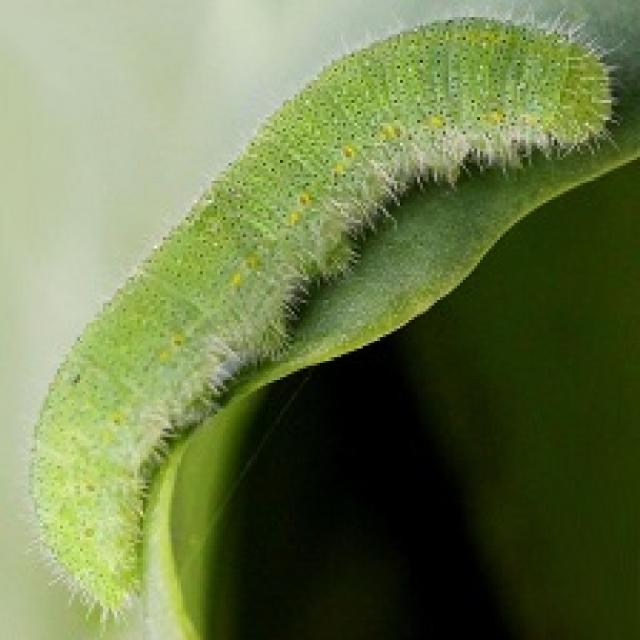Cabbage-worm: (29, 16, 618, 616)
